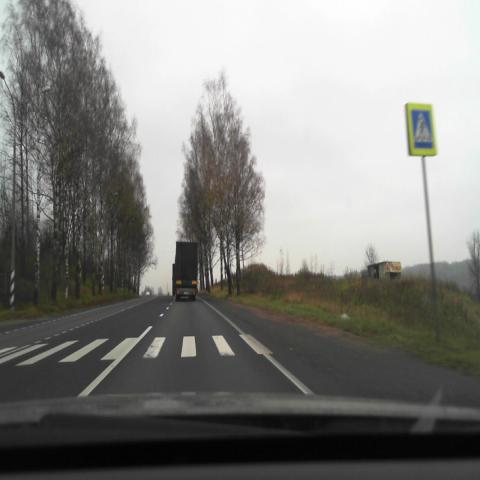5_19_1: (404, 102, 436, 157)
